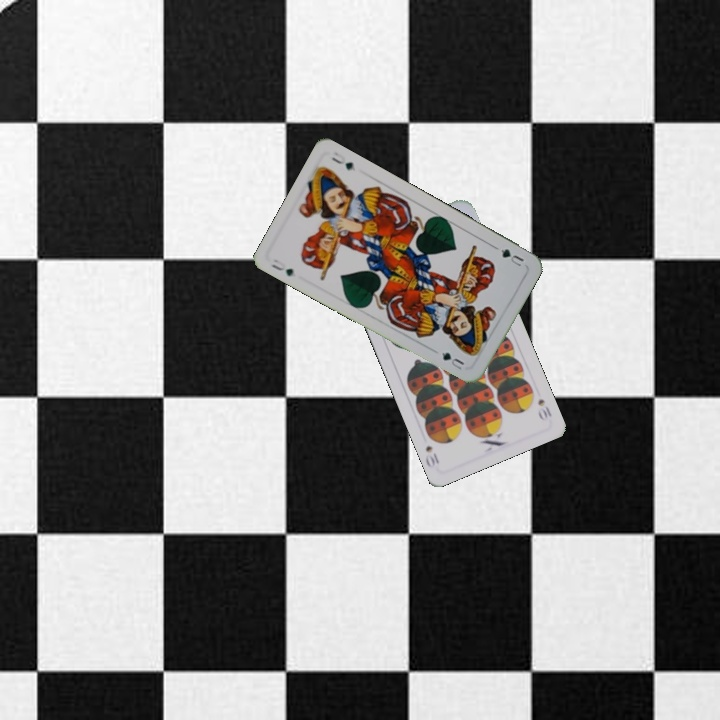GU: (497, 245, 526, 269), (267, 255, 296, 279)
S10: (534, 394, 554, 423)
